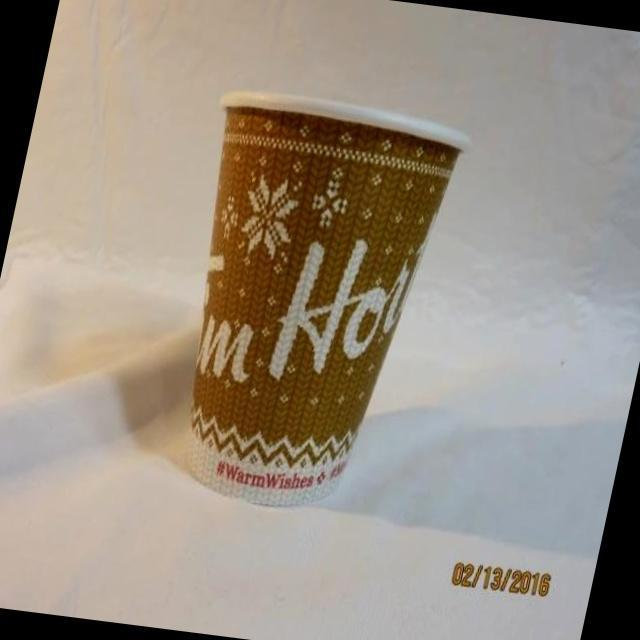timmies: (136, 84, 478, 526)
